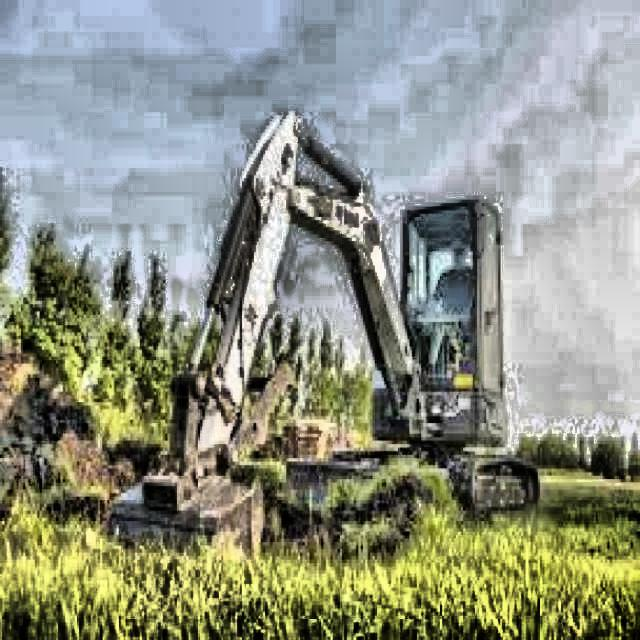bull_dozer/loader/grader: (108, 109, 540, 562)
person: (426, 236, 476, 317)
